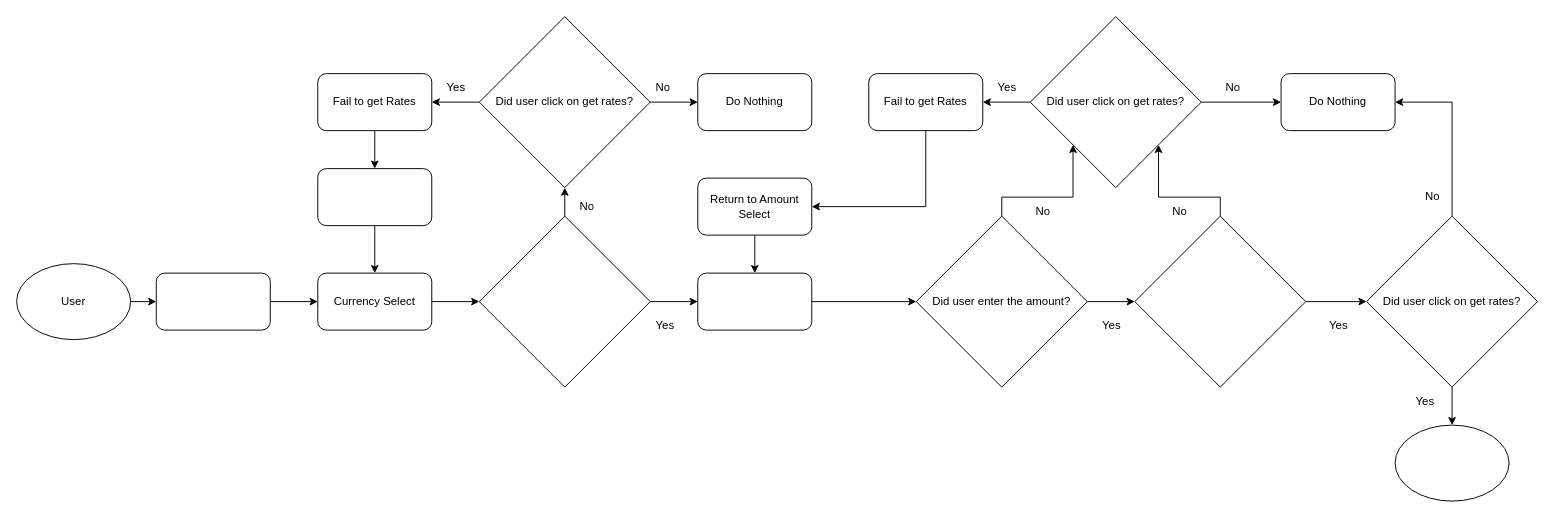
The diagram is 1554 pixels wide and 518 high, and some of its shapes have lost their labels. The shapes that lost their labels are listed below. From the top down, each one's box as (x1, y1, x2, y2) in pixels, then its label:
(317, 168, 432, 226): Return to Currency Select
(155, 272, 270, 330): START
(478, 215, 650, 387): Did user select currency?
(697, 272, 812, 330): Add Amount
(1134, 215, 1306, 387): Was it a valid integer?
(1394, 424, 1509, 501): Show result
